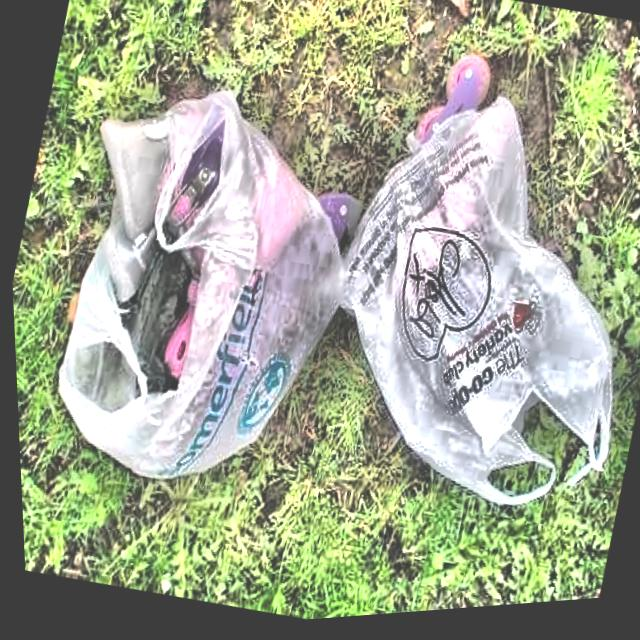Plastic: (2, 40, 398, 554), (274, 39, 640, 576)
